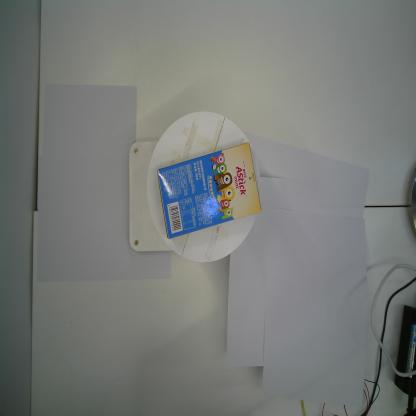Dessert: (157, 141, 262, 242)
